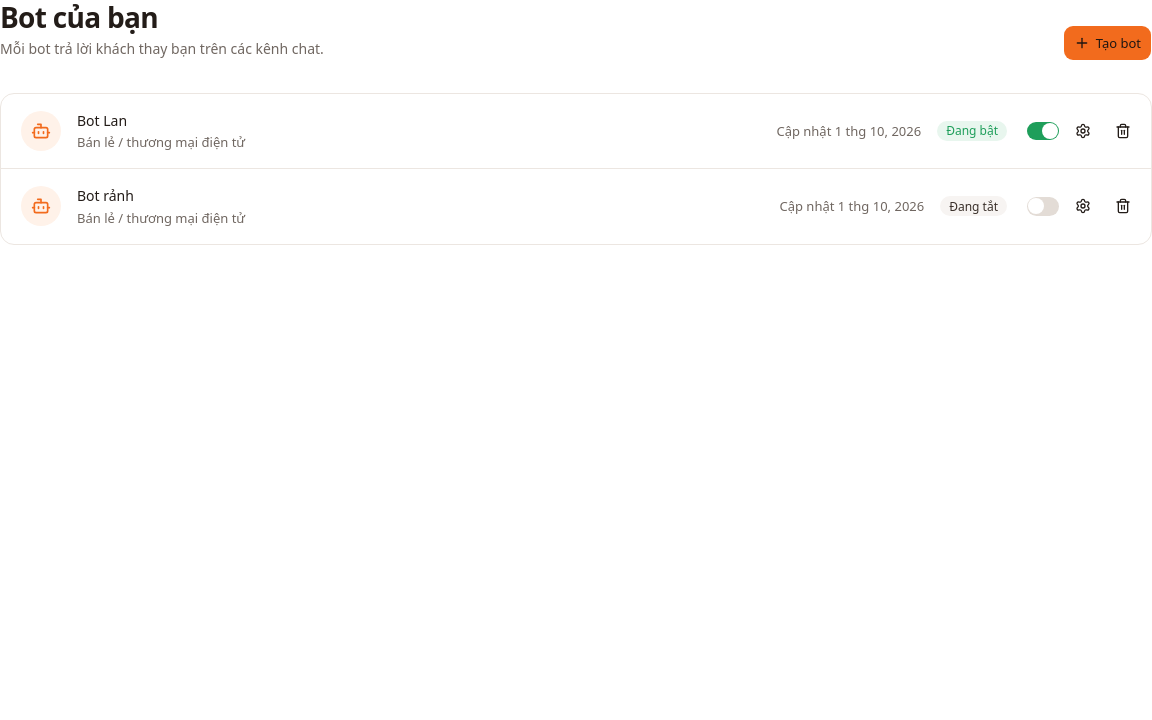
Test case: BotList actions › requires the bot name for an active bot, then deletes it and refreshes the list
Click the button named "Xóa bot" in the row of "Bot Lan": (1123, 131) [1107,115,1139,147]
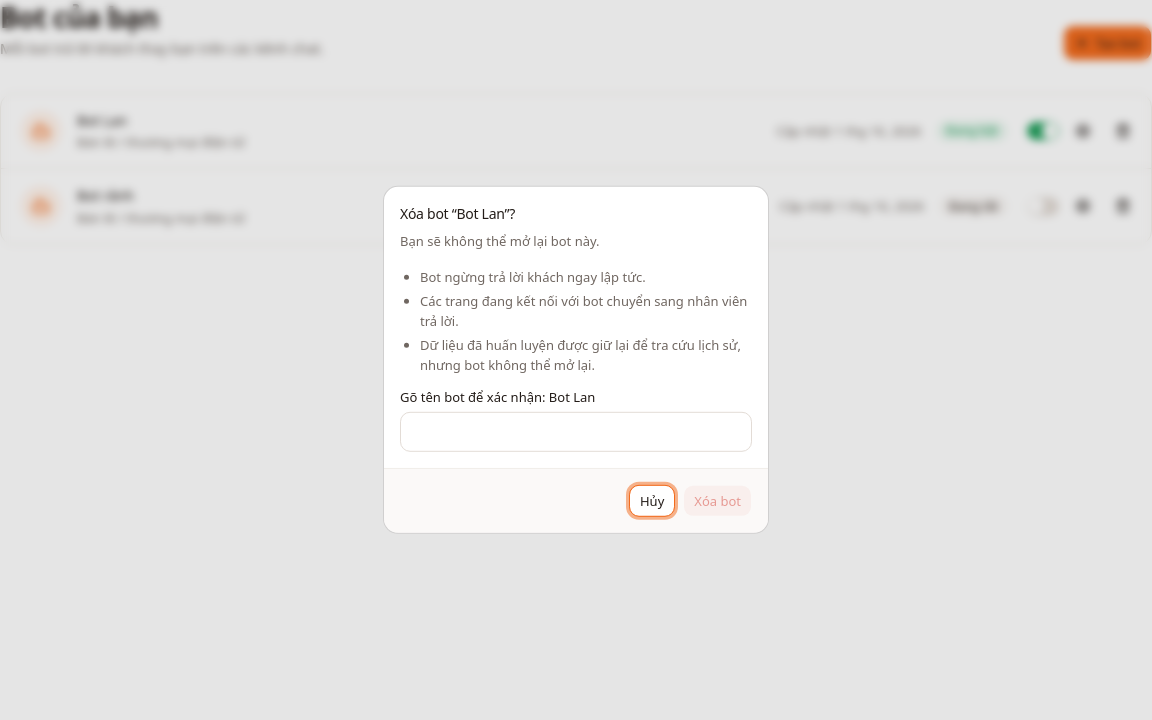
Now the dialog shows "Bot ngừng trả lời khách", box [420,268,646,286]
Now the button "Xóa bot" is disabled, box [683,485,752,517]
In the field labelled "Gõ tên bot để xác nhận: Bot Lan": (576, 432) [400,412,752,452], type "Bot Lan"
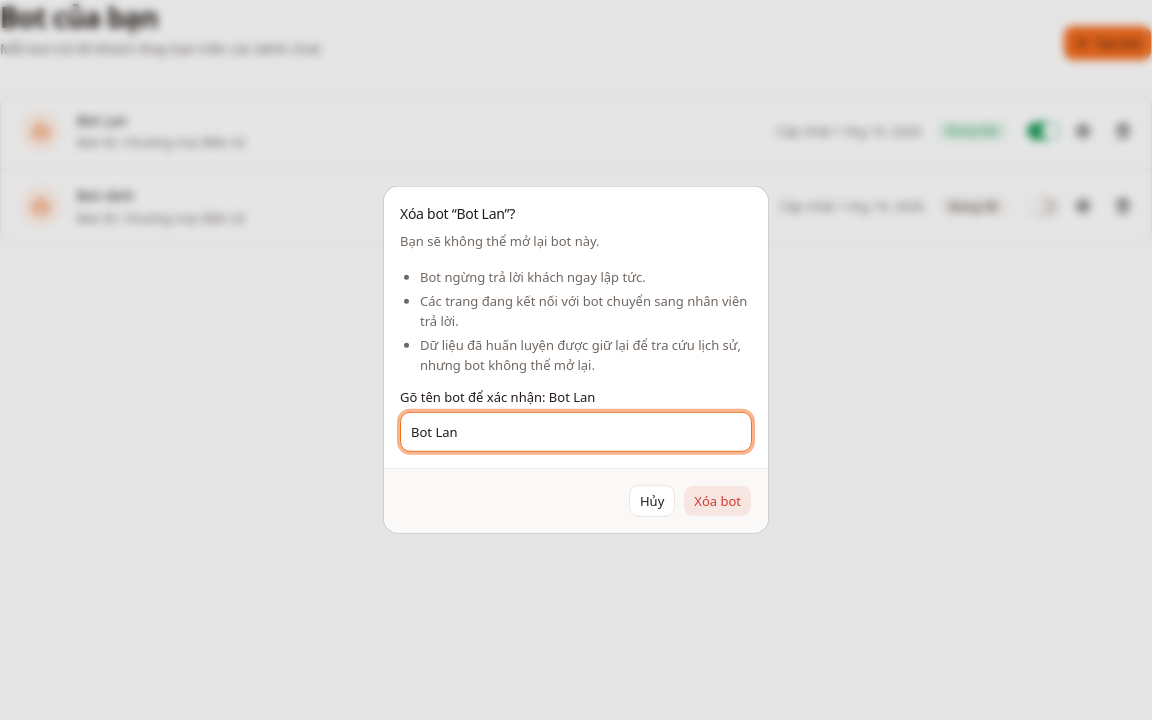
Now the button "Xóa bot" is enabled
Click the button "Xóa bot": (718, 501) [683,485,752,517]
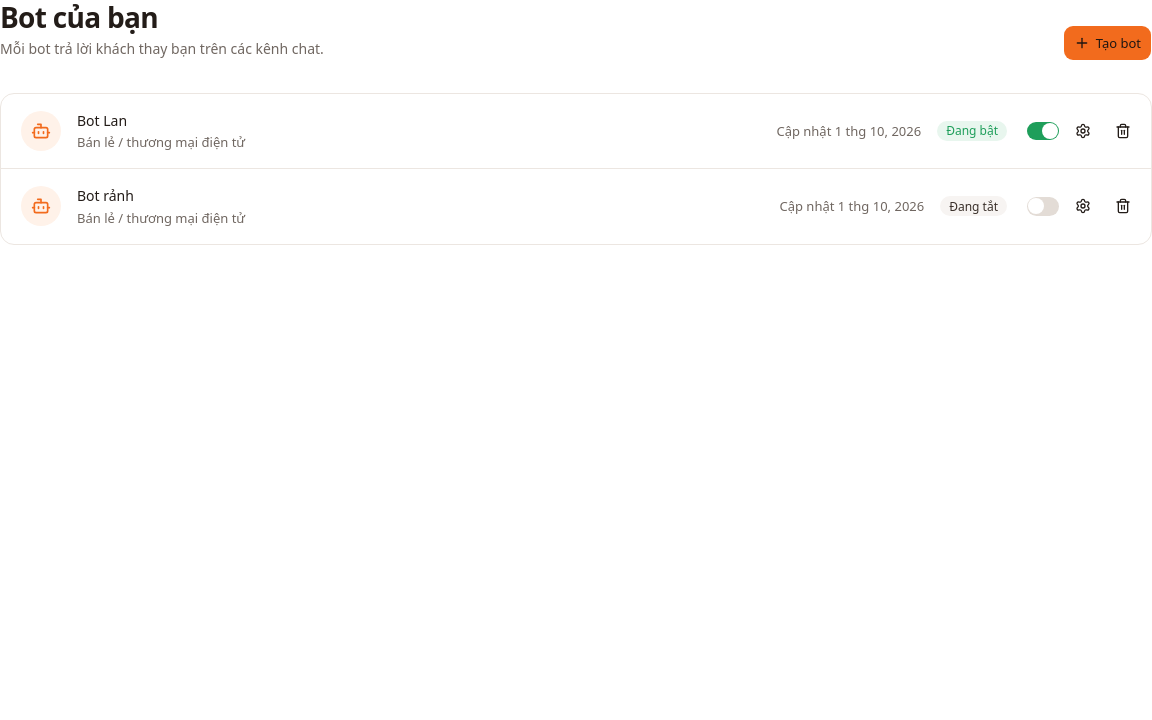
Now the dialog is gone
